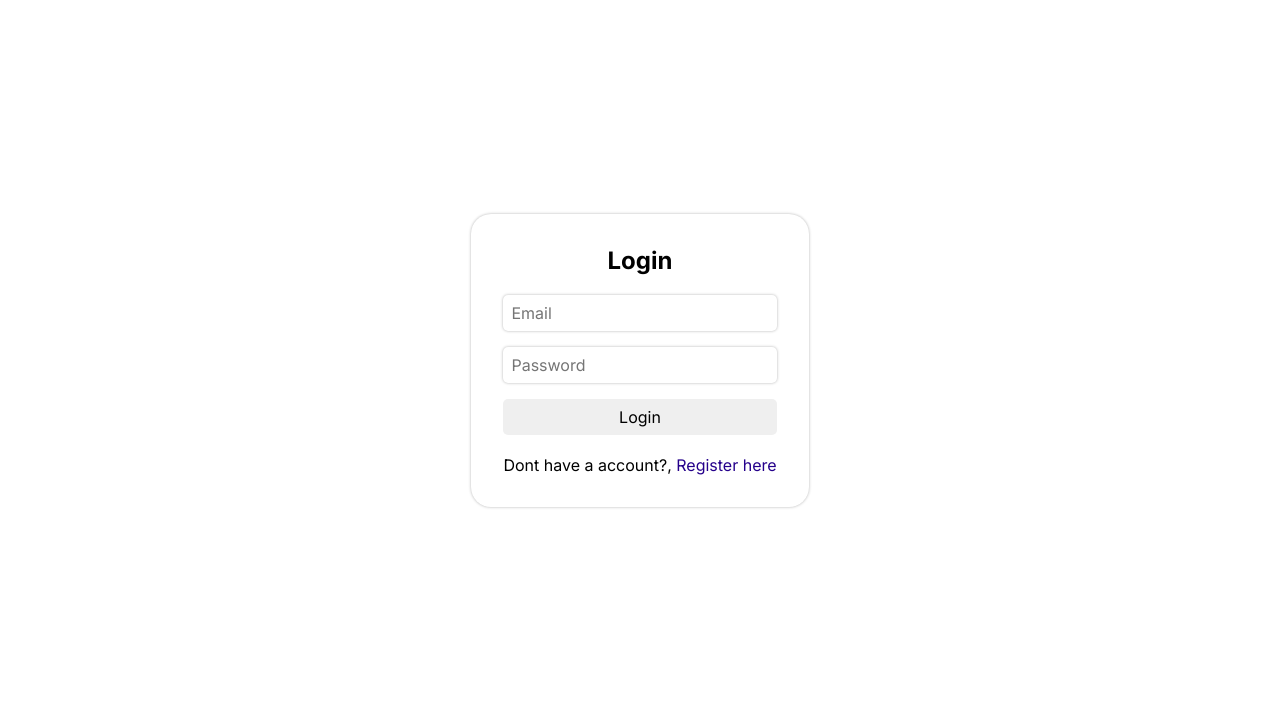
Test: Login Spec › should display homepage when email or password is correct
The image size is (1280, 720).
Type "fulan@mail.com" into the field with placeholder "Email" at (640, 313), box 503,295 -> 776,331
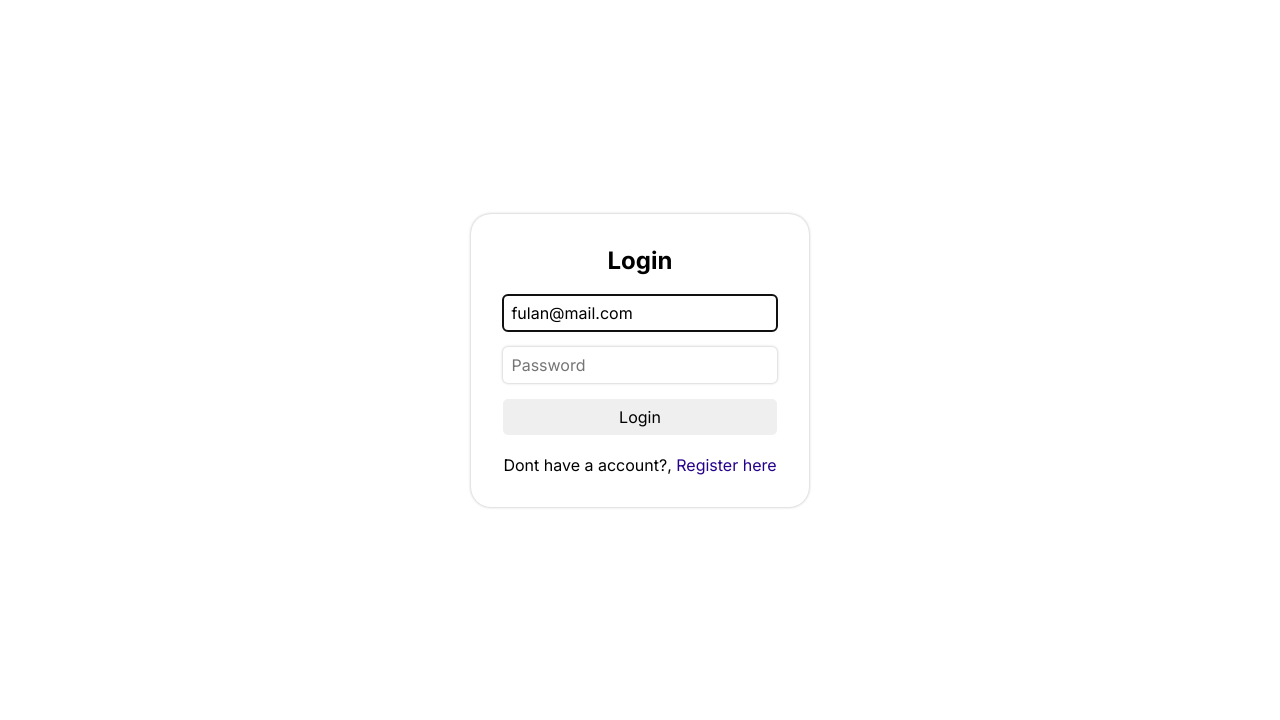
Type "beraskencur" into the password field with placeholder "Password" at (640, 365), box 503,347 -> 776,383
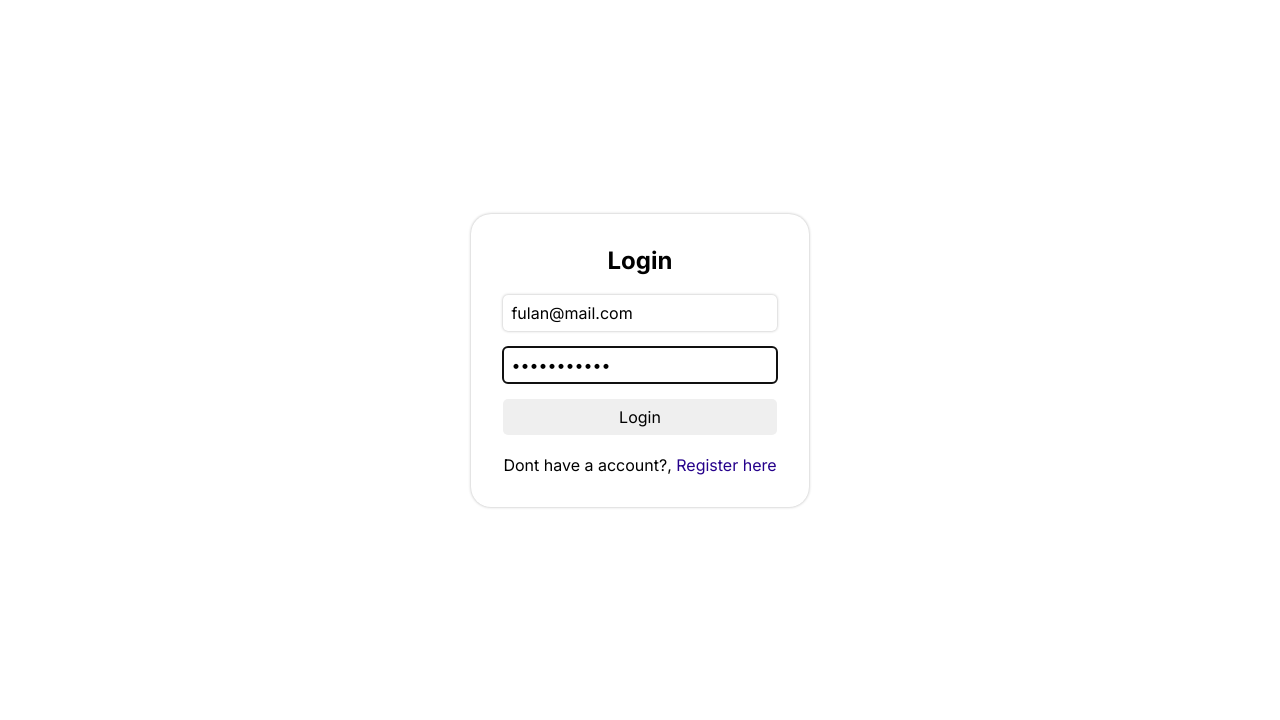
Click the button "Login" at (640, 417), box 503,399 -> 776,435
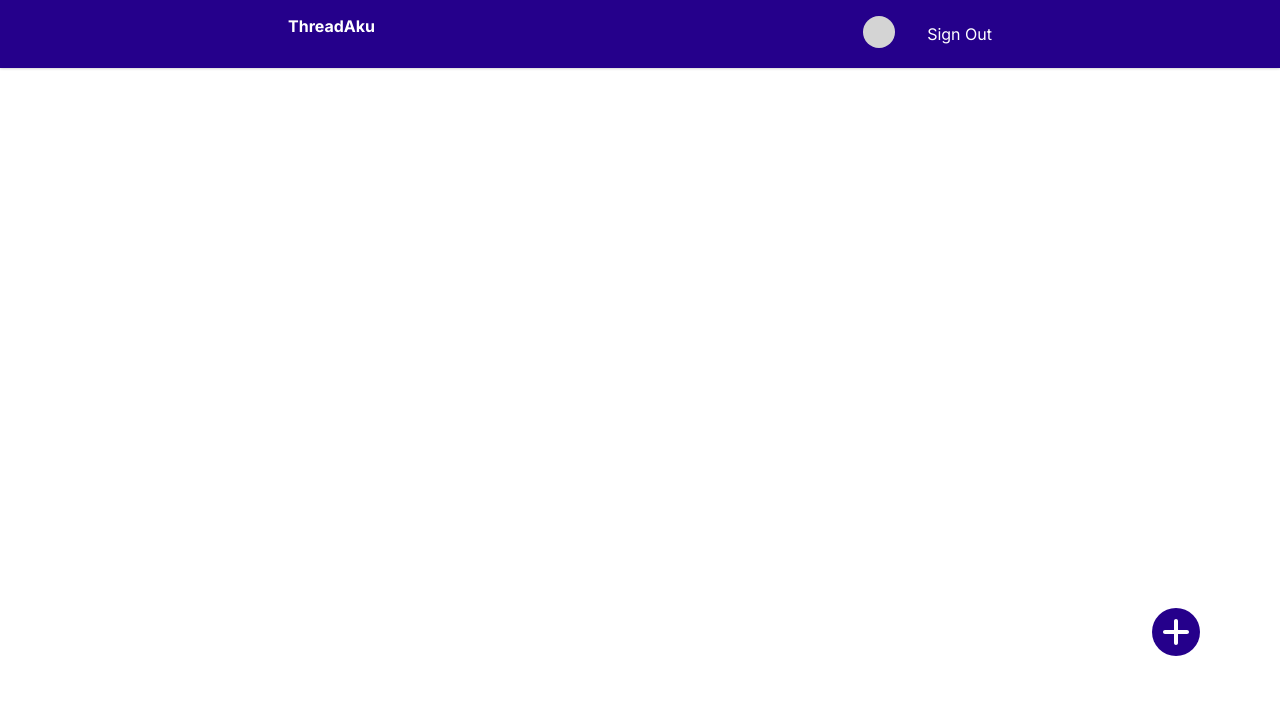
Expected: the button "Sign Out" is shown, 927,24 -> 992,44
